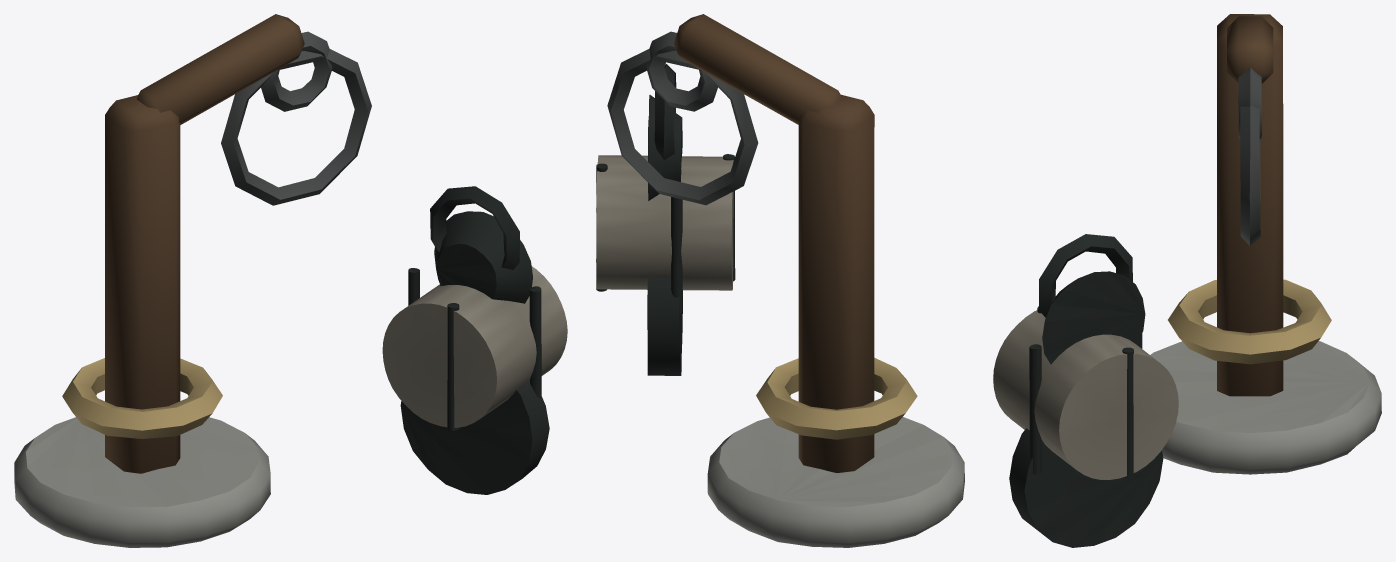
Rendered from storm_lantern_b.glb.
The picture shows the model from 3 angles, left to right: view 1: azimuth 30°, elevation 25°; view 2: azimuth 150°, elevation 25°; view 3: azimuth 270°, elevation 25°; orthographic projection.
Visible parts, largest first — view 1: Surface; view 2: Surface; view 3: Surface.
Boxes of the visible parts, x1=… form: Surface: x1=14, y1=14, x2=567, y2=547; Surface: x1=596, y1=14, x2=964, y2=547; Surface: x1=993, y1=14, x2=1381, y2=547.
Bounding box in the file's own units: 1.58 × 1.53 × 1.18.
